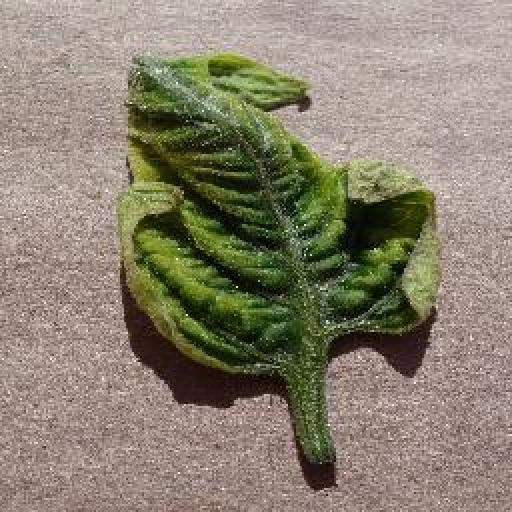Yellow Leaf Curl Virus: (115, 49, 446, 383)
